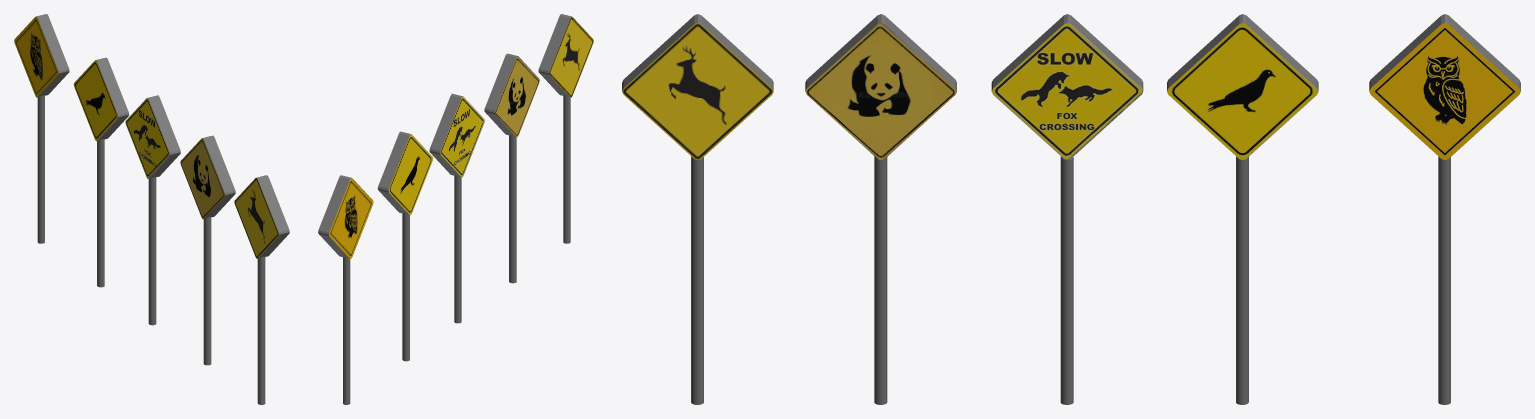
The model's file is Sign1.fbx.
3 views of the same model, side by side, from view 1: azimuth 30°, elevation 25°; view 2: azimuth 150°, elevation 25°; view 3: azimuth 270°, elevation 25° (orthographic). The views are drawn at different scales.
Parts seen in each view (by area): view 1: Plane.004, Plane.003, Plane.007, Plane.006, Plane.005; view 2: Plane.003, Plane.004, Plane.006, Plane.007, Plane.005; view 3: Plane.004, Plane.007, Plane.003, Plane.005, Plane.006.
Boxes of the visible parts, x1=… form: Plane.004: x1=125, y1=95, x2=180, y2=325; Plane.003: x1=234, y1=175, x2=289, y2=404; Plane.007: x1=180, y1=135, x2=235, y2=365; Plane.006: x1=14, y1=14, x2=69, y2=243; Plane.005: x1=73, y1=57, x2=129, y2=287; Plane.003: x1=538, y1=14, x2=593, y2=243; Plane.004: x1=429, y1=93, x2=484, y2=323; Plane.006: x1=318, y1=175, x2=373, y2=404; Plane.007: x1=484, y1=53, x2=539, y2=283; Plane.005: x1=377, y1=131, x2=433, y2=361; Plane.004: x1=991, y1=14, x2=1143, y2=404; Plane.007: x1=805, y1=14, x2=956, y2=404; Plane.003: x1=622, y1=14, x2=773, y2=404; Plane.005: x1=1167, y1=14, x2=1318, y2=404; Plane.006: x1=1369, y1=14, x2=1520, y2=404.
Bounding box in the file's own units: 38.38 × 770 × 1631.
